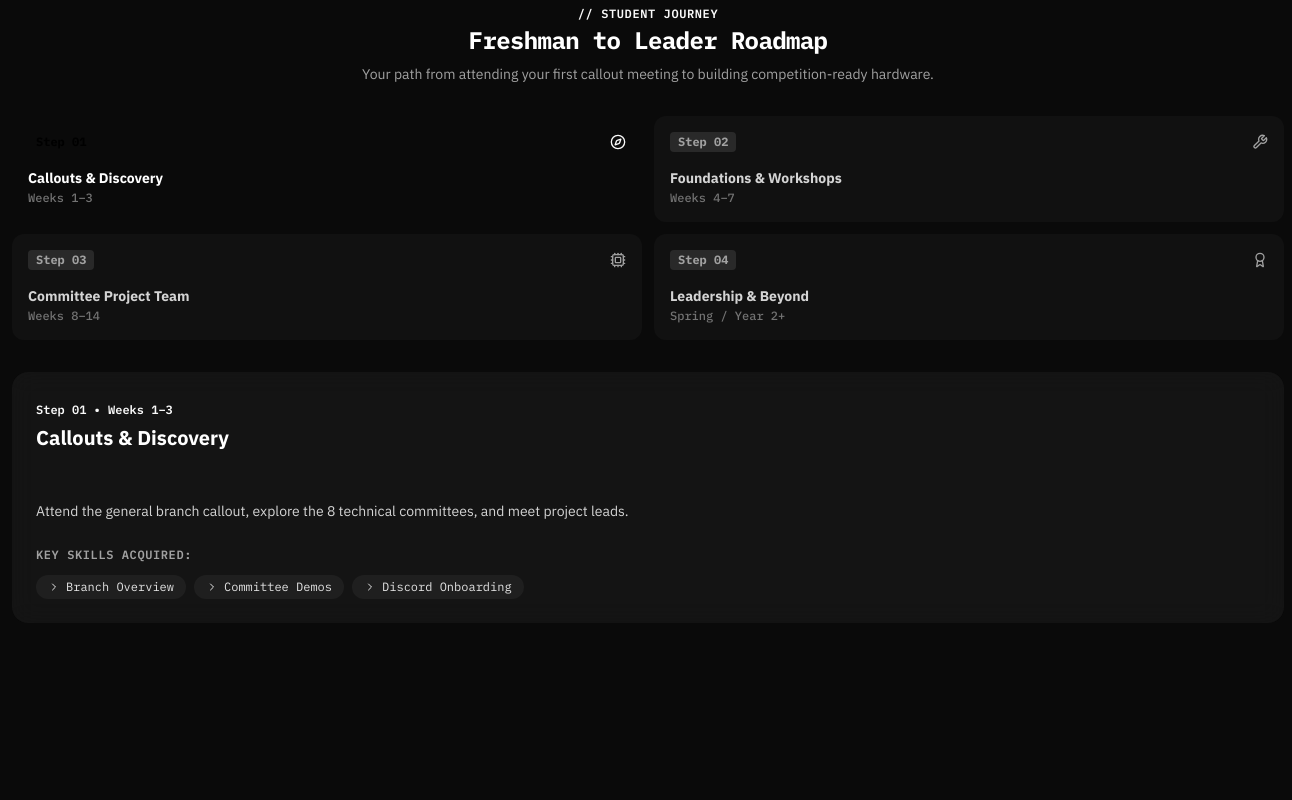
it: LearningRoadmap Component › renders roadmap stages and switches active stage on click
The width and height of the screenshot is (1292, 800).
Expected: the heading "Freshman to Leader Roadmap" is shown, [469,24,827,56]
Expected: the 1st heading "Callouts & Discovery" is shown, [28,168,163,188]
What coordinates should you click on to do the following:
click the button "Step 02 Foundations & Workshops Weeks 4–7"
I would click on:
 (703, 142)
Its box is [654,116,1284,222].
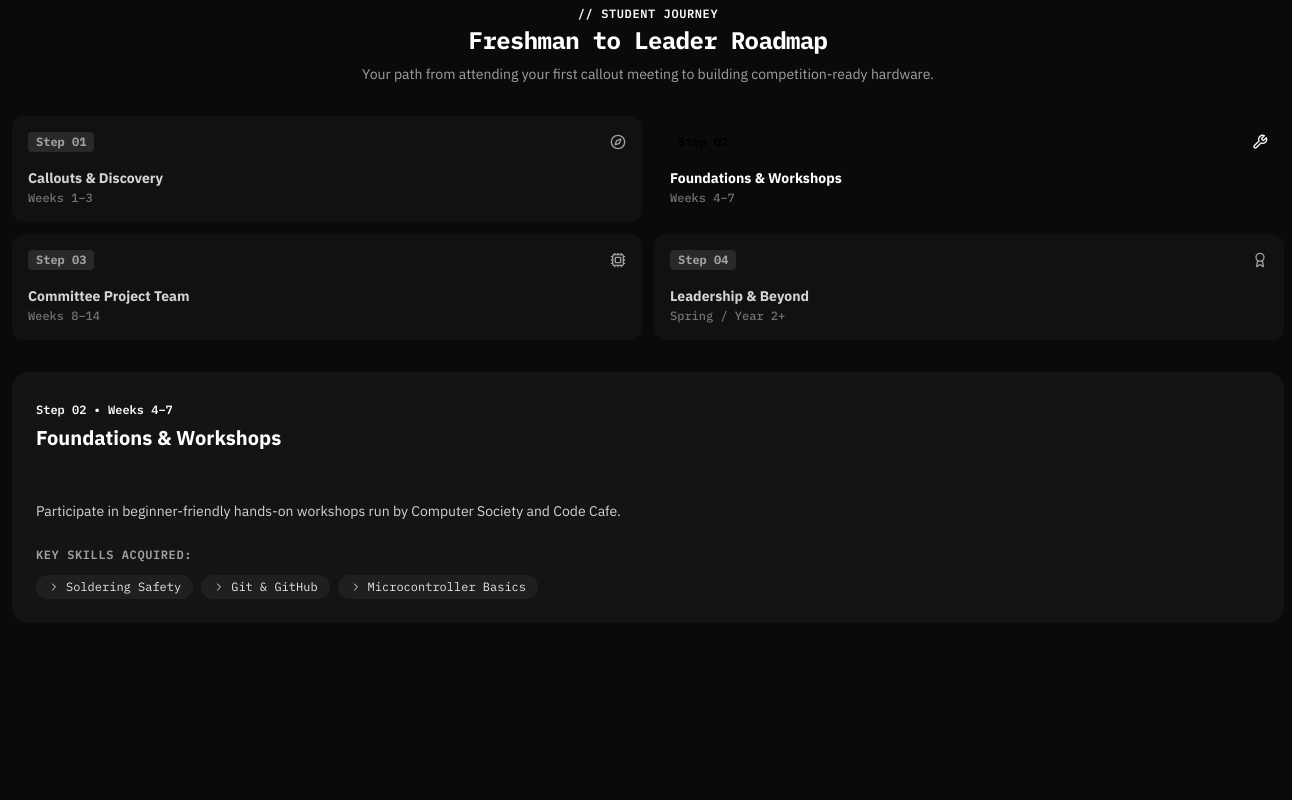
Now the text "Participate in beginner-friendly hands-on workshops" is shown, box [36,502,621,520]
